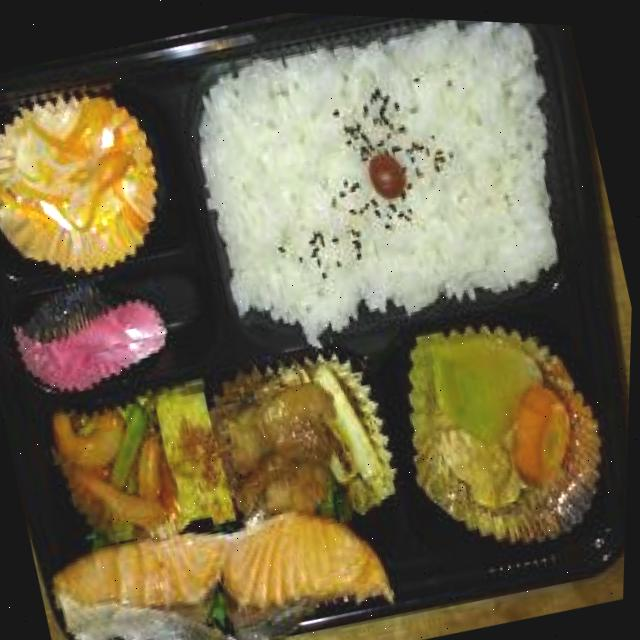熟制海鲜: (46, 472, 425, 640)
